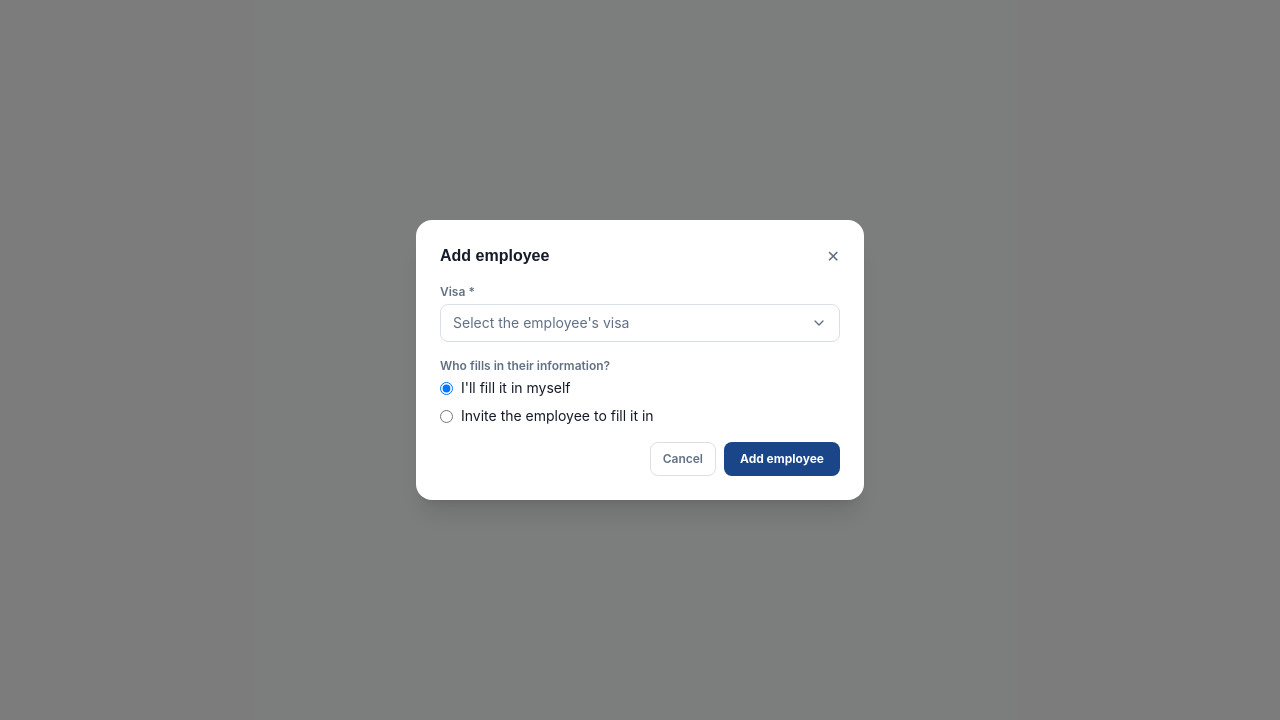
Test: client portal Add employee - the same visa dropdown as Admin › lists the shared visa list in the shared dropdown, with the server's labels
Click the button labelled "Select the employee's visa": click(541, 322) [440, 304, 840, 342]
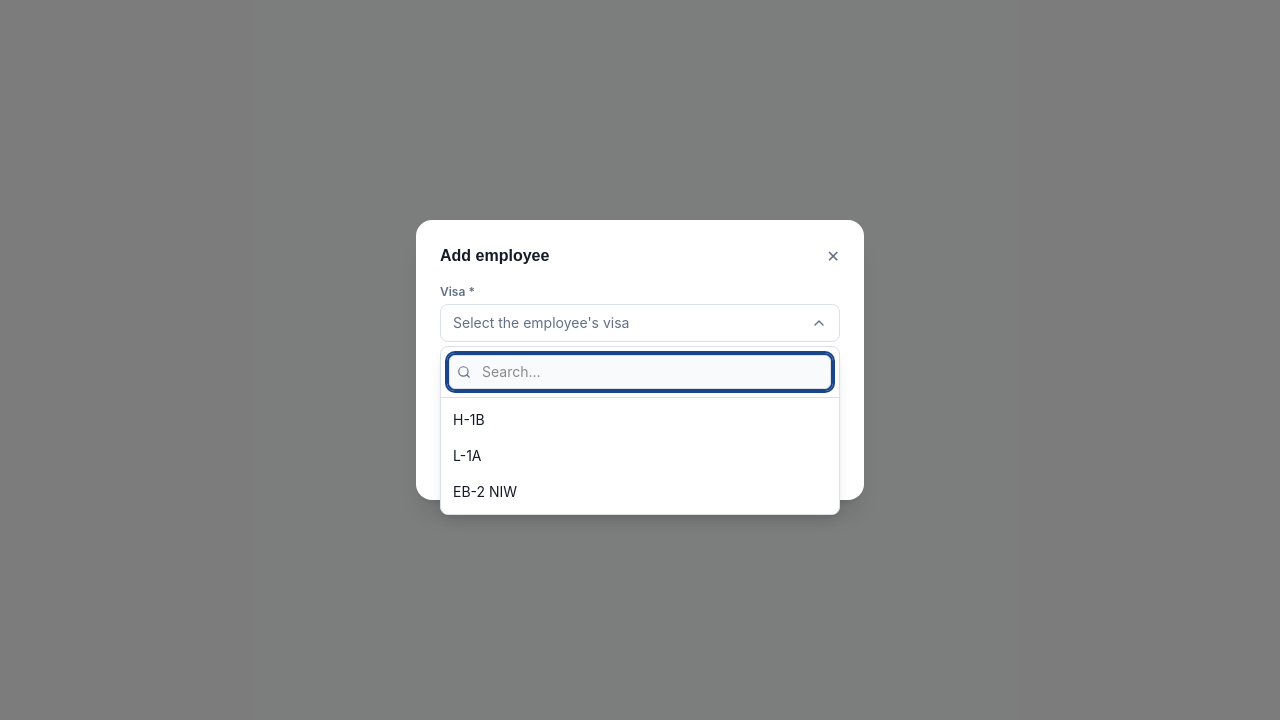
Check: the option "H-1B" is shown, box [441, 402, 839, 438]
Check: the option "L-1A" is shown, box [441, 438, 839, 474]
Check: the option "EB-2 NIW" is shown, box [441, 474, 839, 510]
